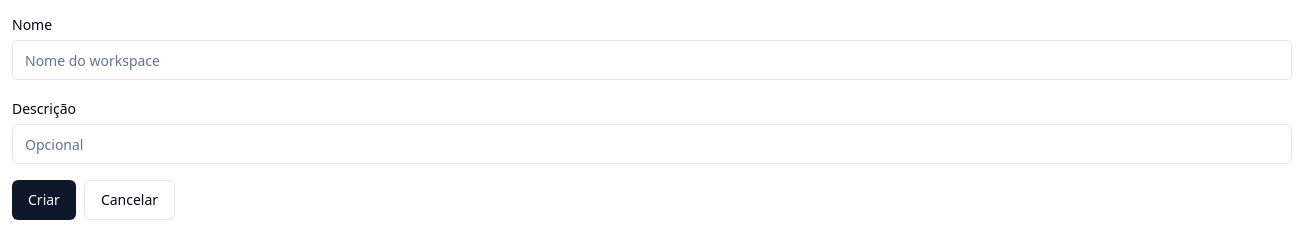
Test case: CreateWorkspaceForm › disables submit button while loading
In the field labelled "Nome": (652,60) x1=12 y1=40 x2=1292 y2=80, type "Nova Startup"
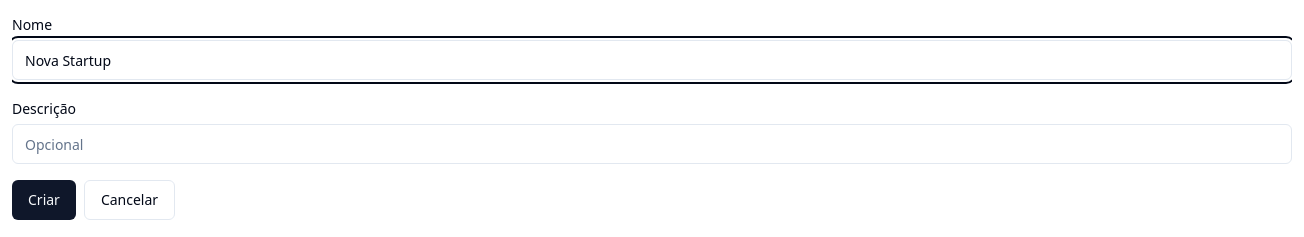
Click the button "Criar": (44,200) x1=12 y1=180 x2=76 y2=220
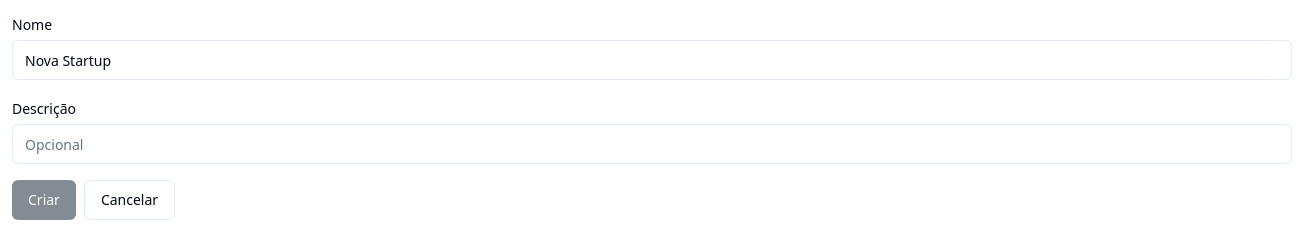
Result: the button "Criar" is disabled at x1=12 y1=180 x2=76 y2=220
